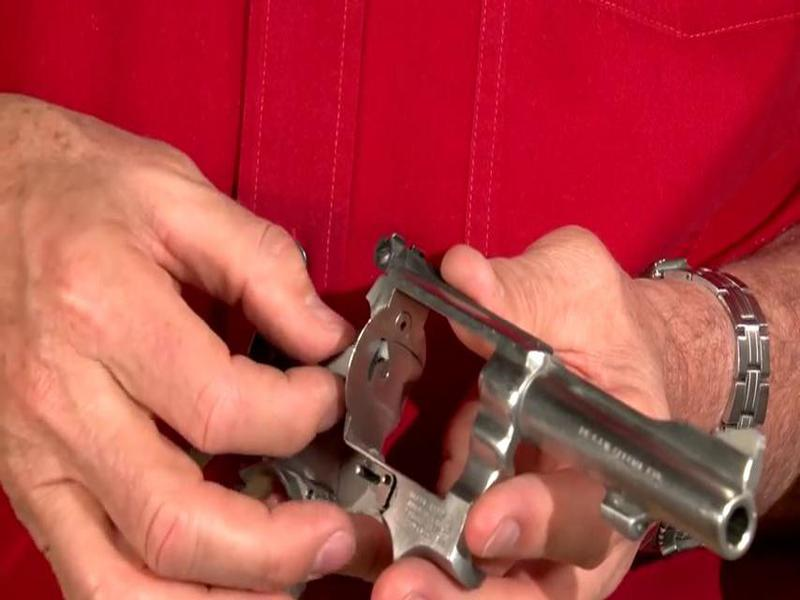Revolver: (165, 234, 800, 588)
